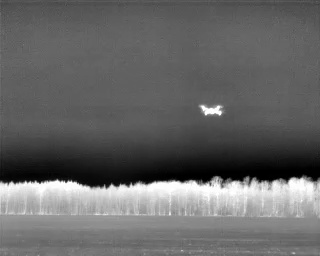DRONE: (195, 99, 228, 121)
